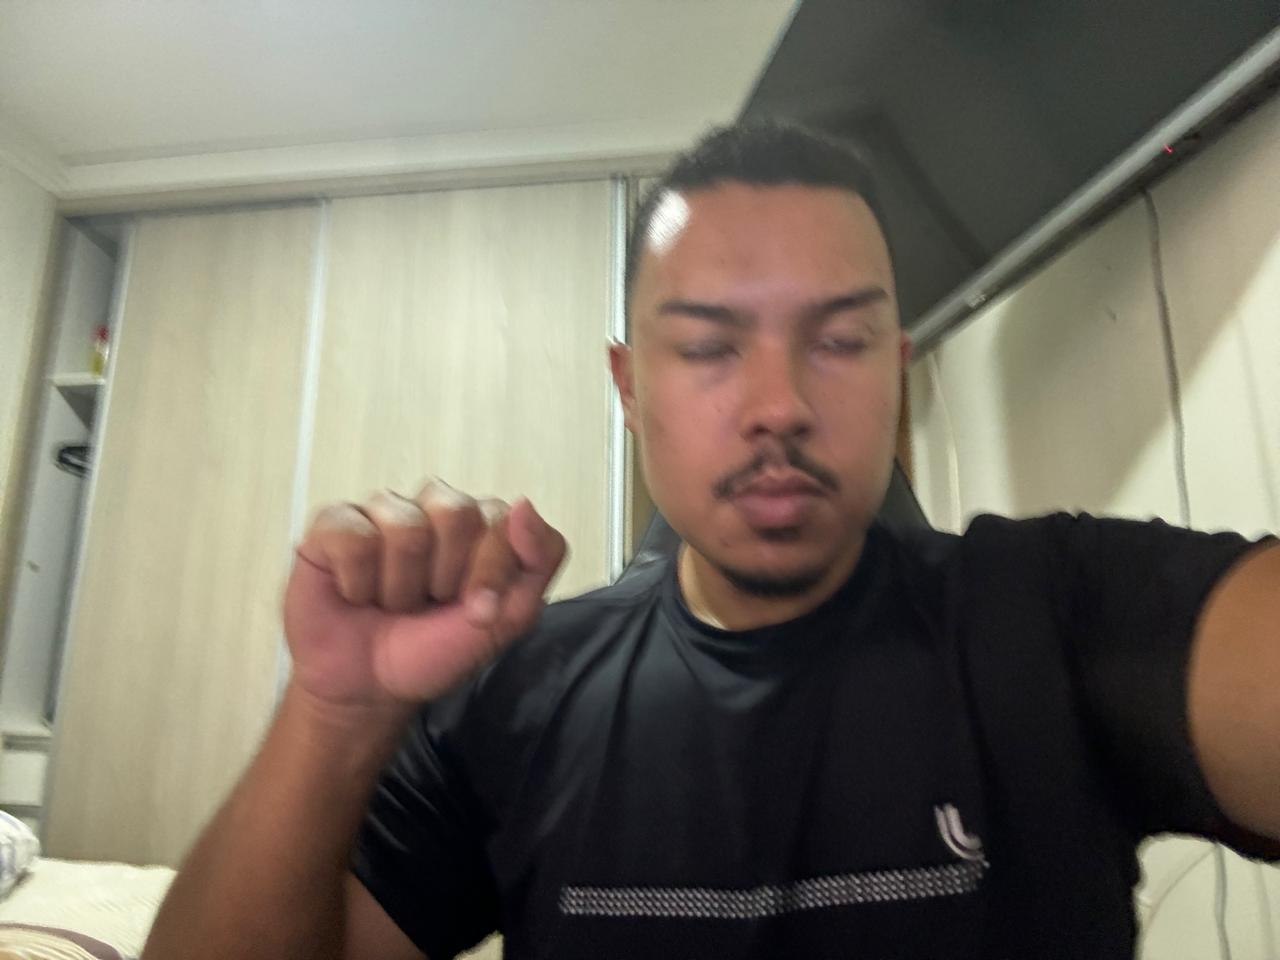q: (269, 457, 573, 724)
